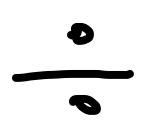div: (13, 23, 134, 116)
